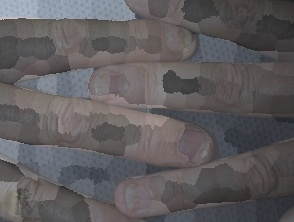Nail_psoriasis: (159, 118, 221, 173), (111, 172, 168, 222), (156, 13, 203, 68), (86, 61, 137, 108), (123, 0, 174, 14)
